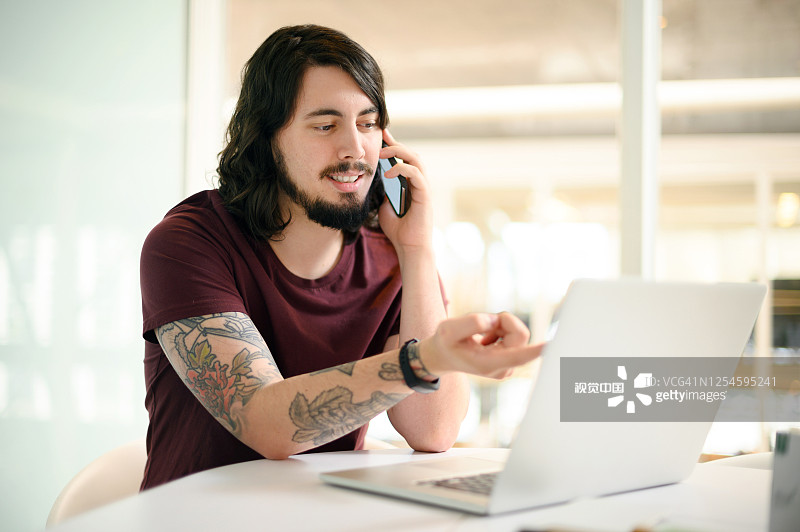calling: (368, 122, 461, 274)
